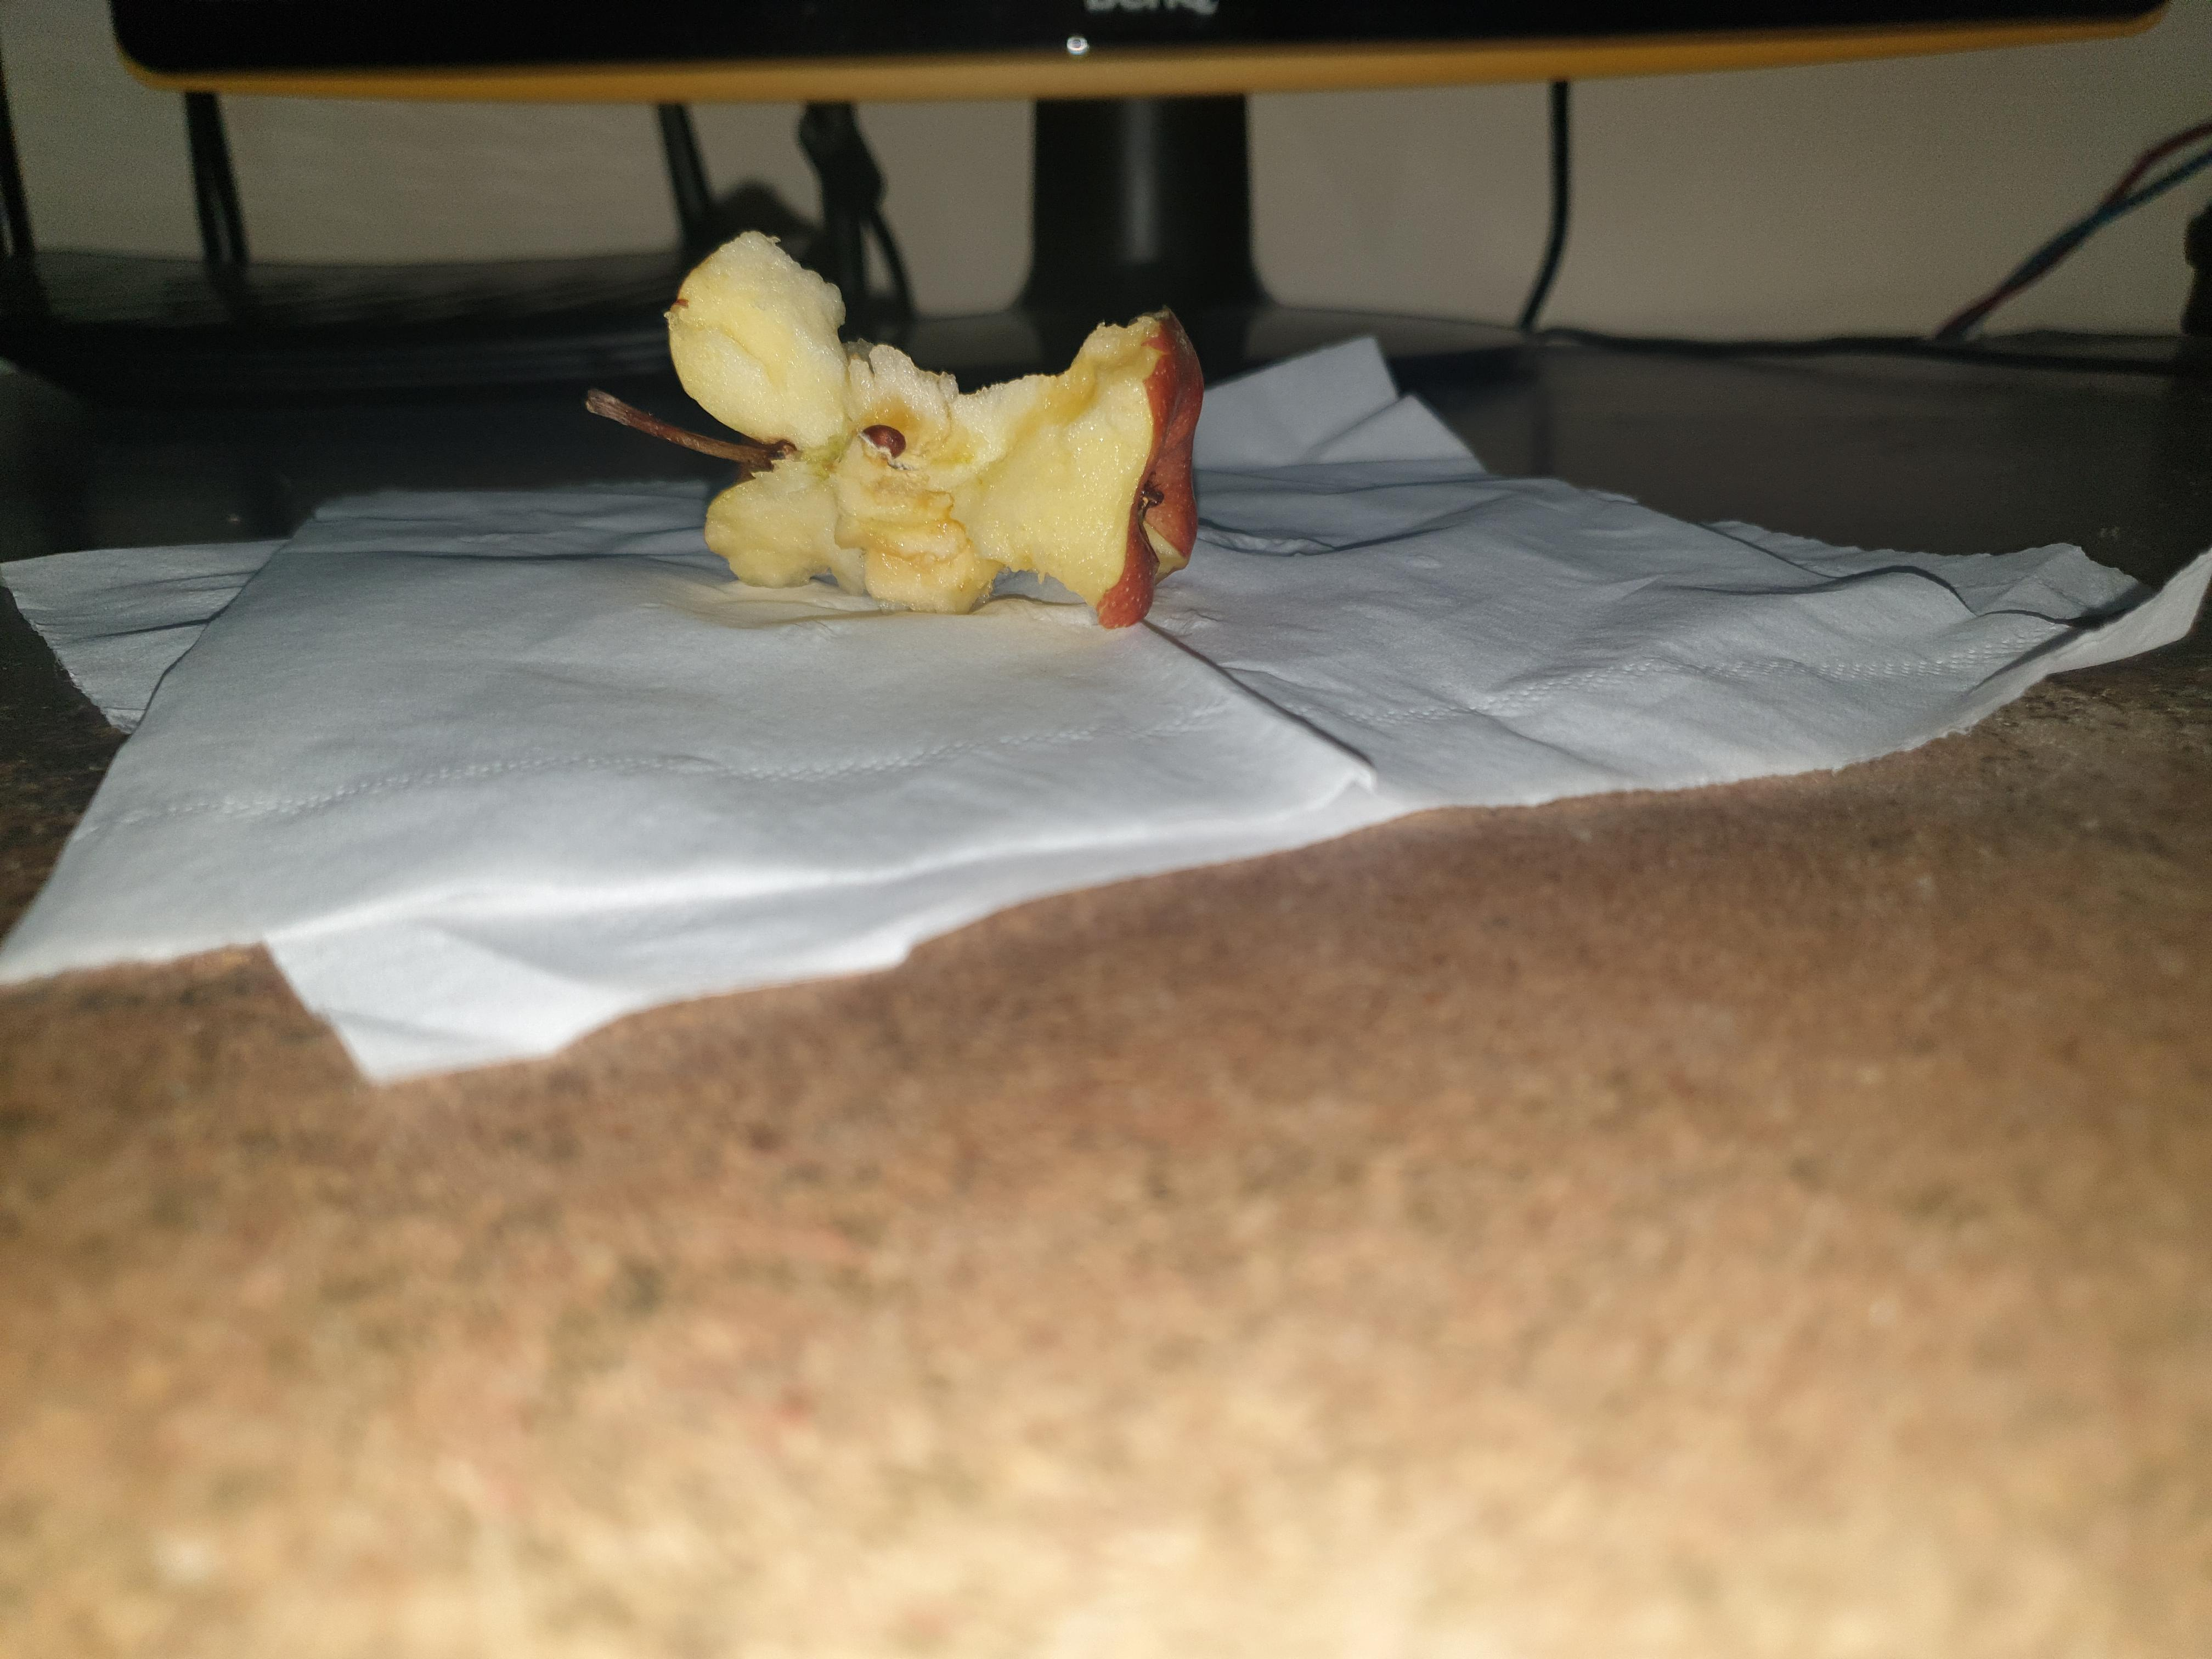Apple: (504, 198, 1279, 688)
